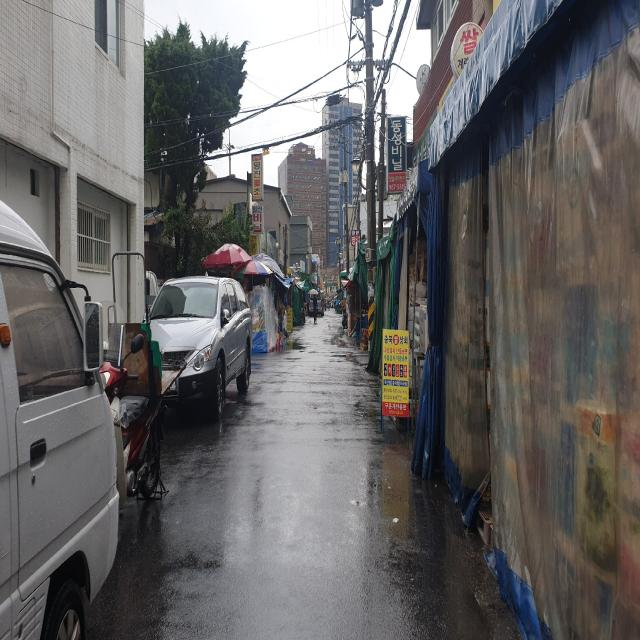car: (0, 191, 120, 640), (146, 278, 252, 421)
motorbike: (98, 250, 166, 503)
